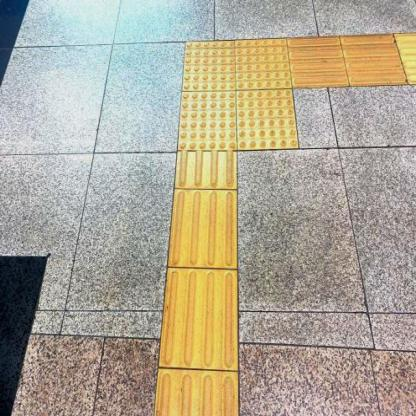podotacti: (151, 14, 320, 187), (154, 152, 238, 415), (295, 27, 415, 89)
